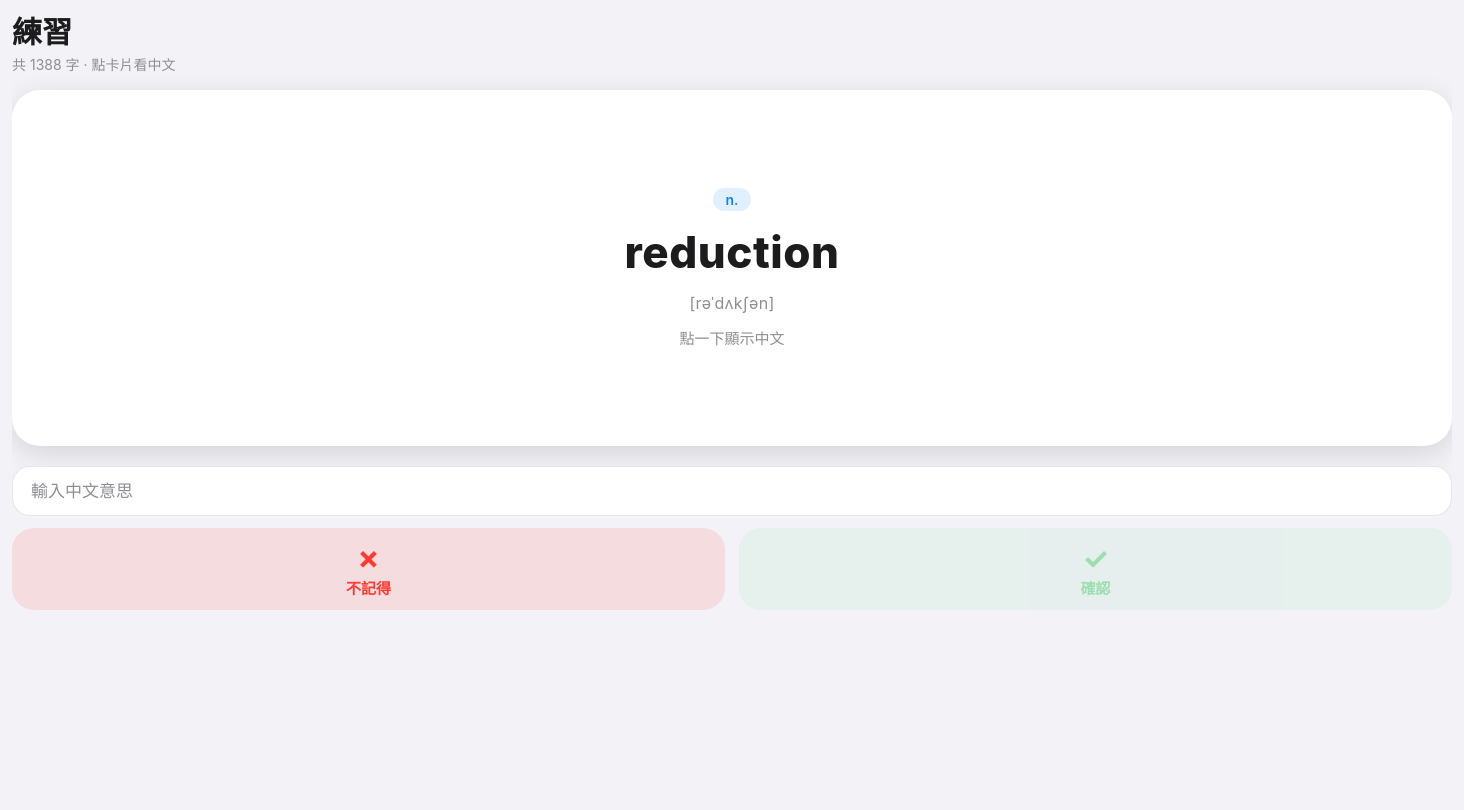
Test: PracticePage answer input › submits the answer with the Enter key
Step 1. Type "減少；降價" into the field labelled "輸入中文意思" → x=732, y=491, box x1=12 y1=466 x2=1452 y2=516
Then press Enter
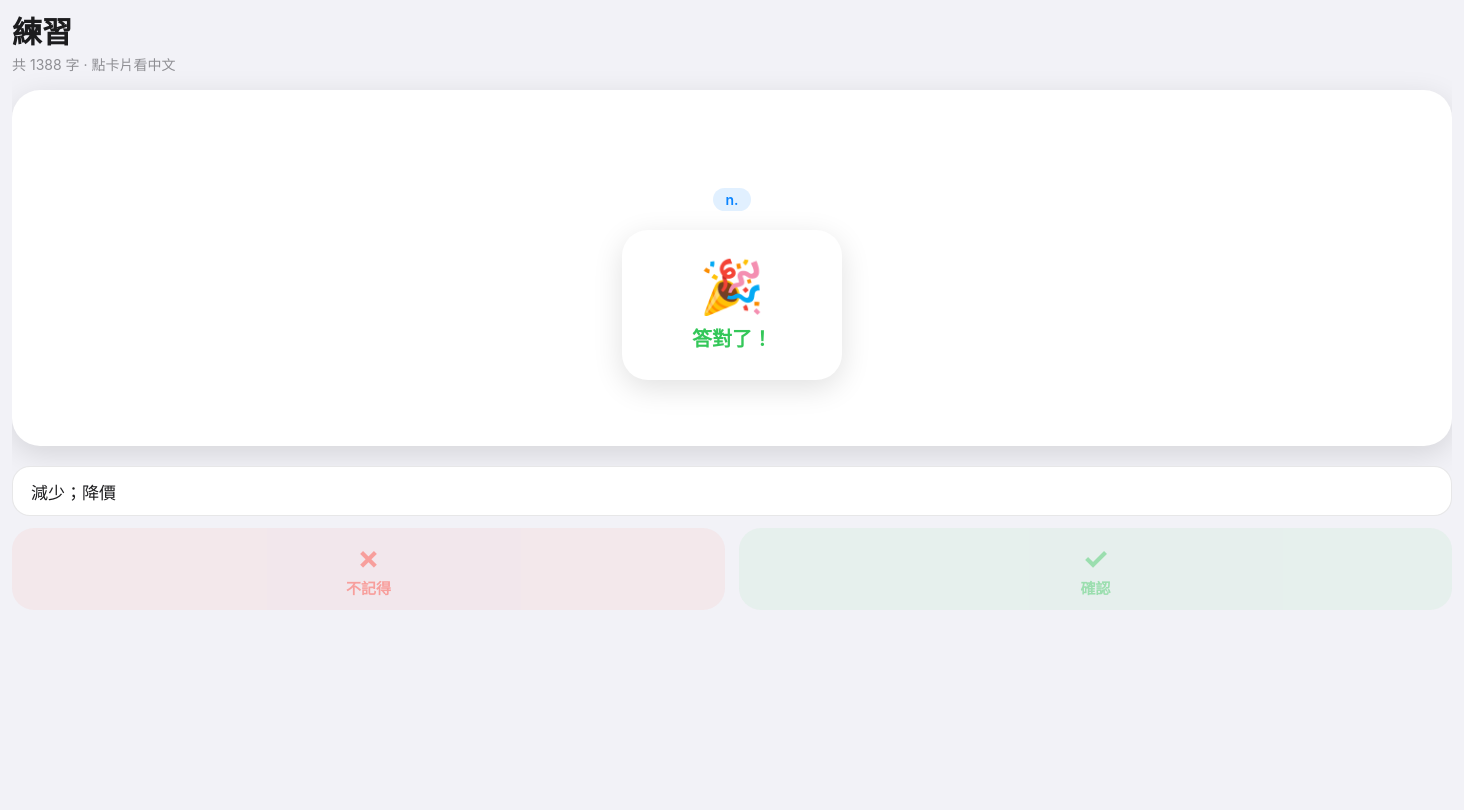
Expected: the message shows "答對了", x1=692 y1=327 x2=772 y2=351
